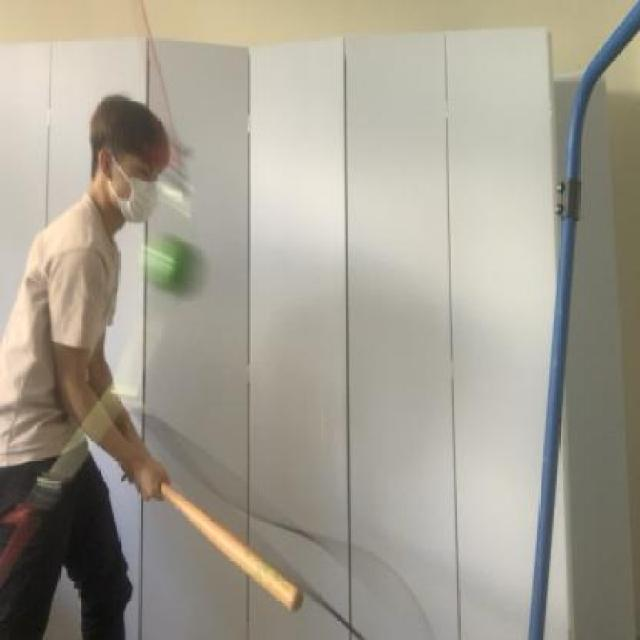baseball: (138, 230, 210, 304)
